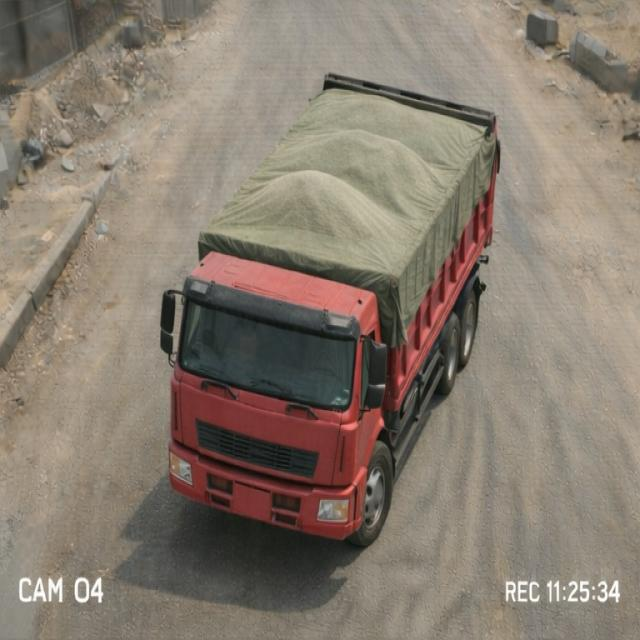trailer: (200, 70, 515, 283)
truck: (150, 58, 541, 537)
